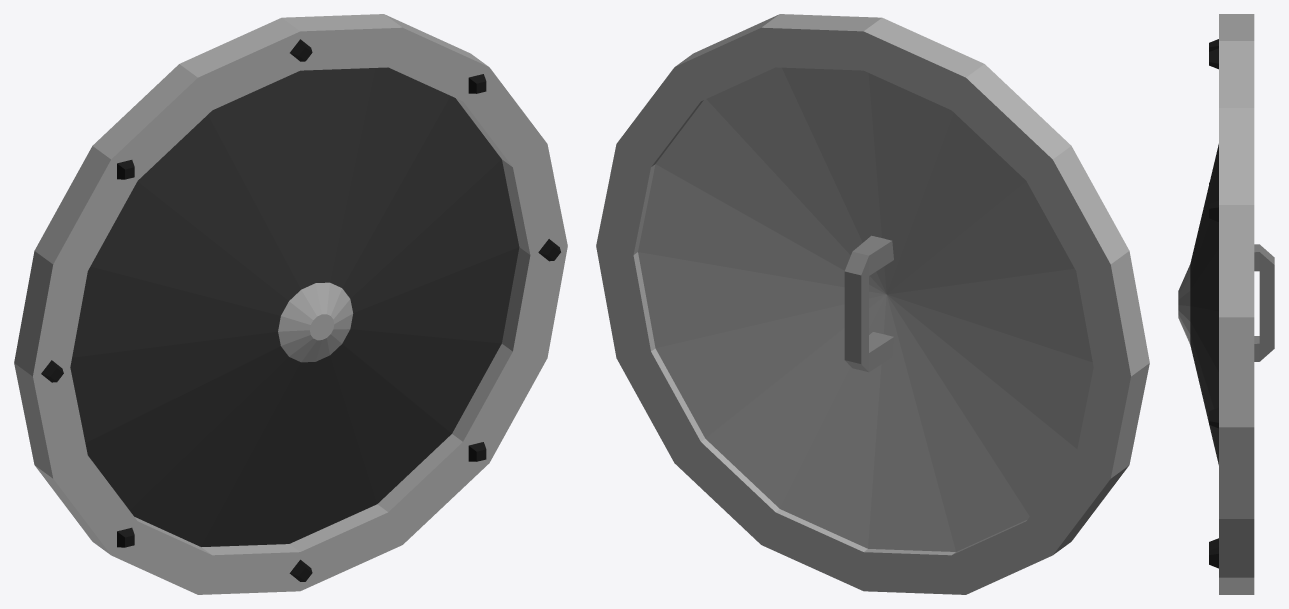
Rendered from shield_2.fbx.
The picture shows the model from 3 angles, left to right: view 1: azimuth 30°, elevation 25°; view 2: azimuth 150°, elevation 25°; view 3: azimuth 270°, elevation 25°; orthographic projection. The views are drawn at different scales.
Parts seen in each view (by area): view 1: Cylinder.004; view 2: Cylinder.004; view 3: Cylinder.004.
Part boxes in pixels (bbox=[...]): Cylinder.004: bbox=[14, 14, 567, 594]; Cylinder.004: bbox=[596, 14, 1149, 594]; Cylinder.004: bbox=[1178, 14, 1274, 594].
Size of the model in its own units: 3.13 by 3.13 by 0.5181.
